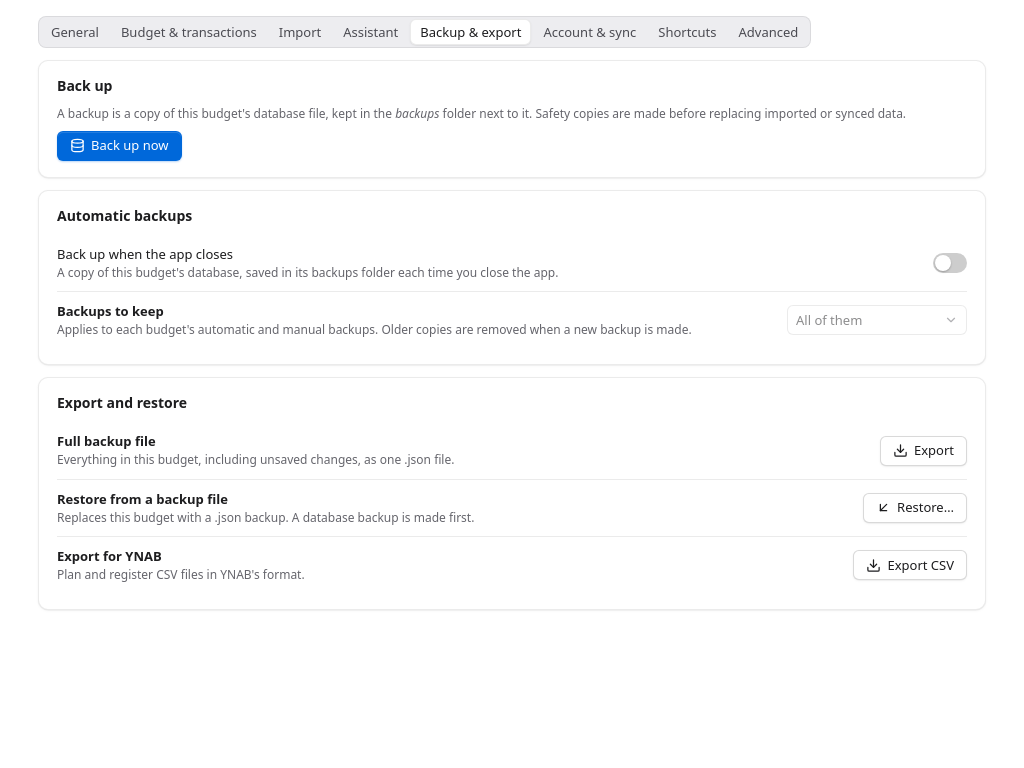
Scenario: does not export an outdated backup when pending edits cannot be saved
The image size is (1024, 768).
Click the button "Back up now" at {"x": 119, "y": 146}, box [57,131,182,161]
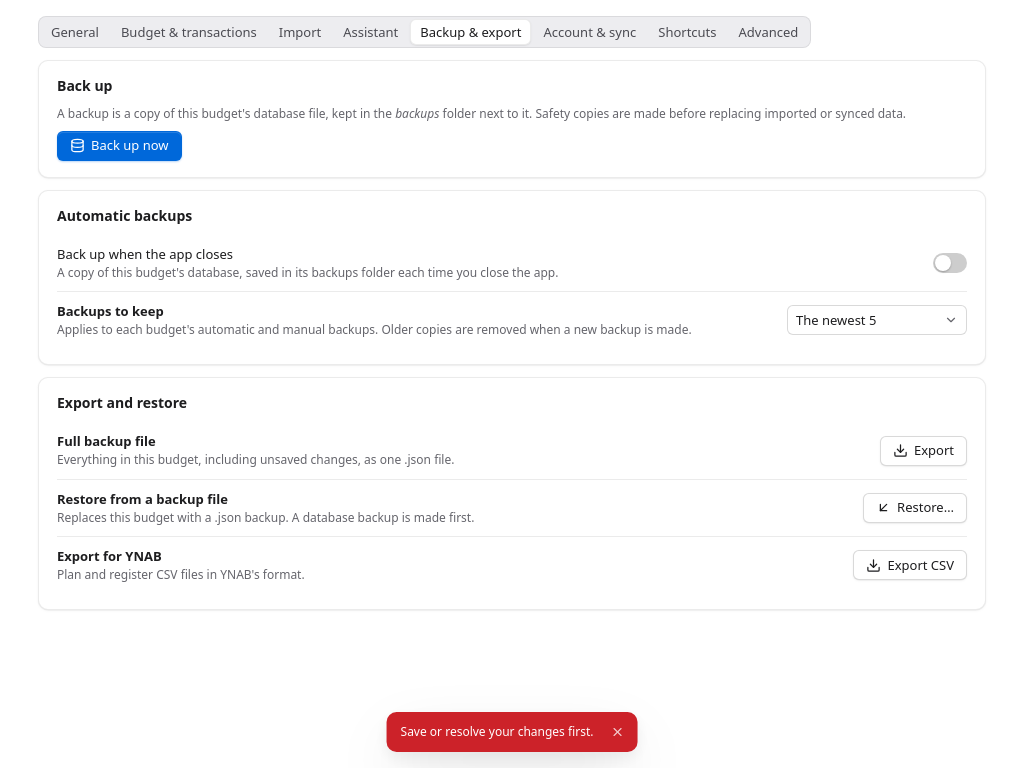
Check: the message shows "Save or resolve", box [400,723,593,740]
